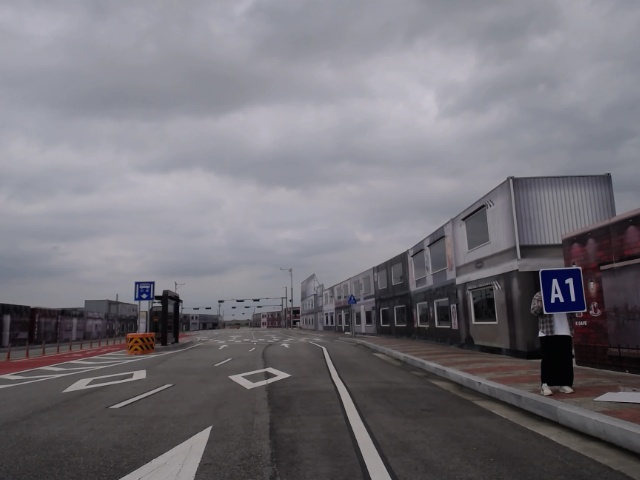delivery_a1: (540, 267, 587, 314)
